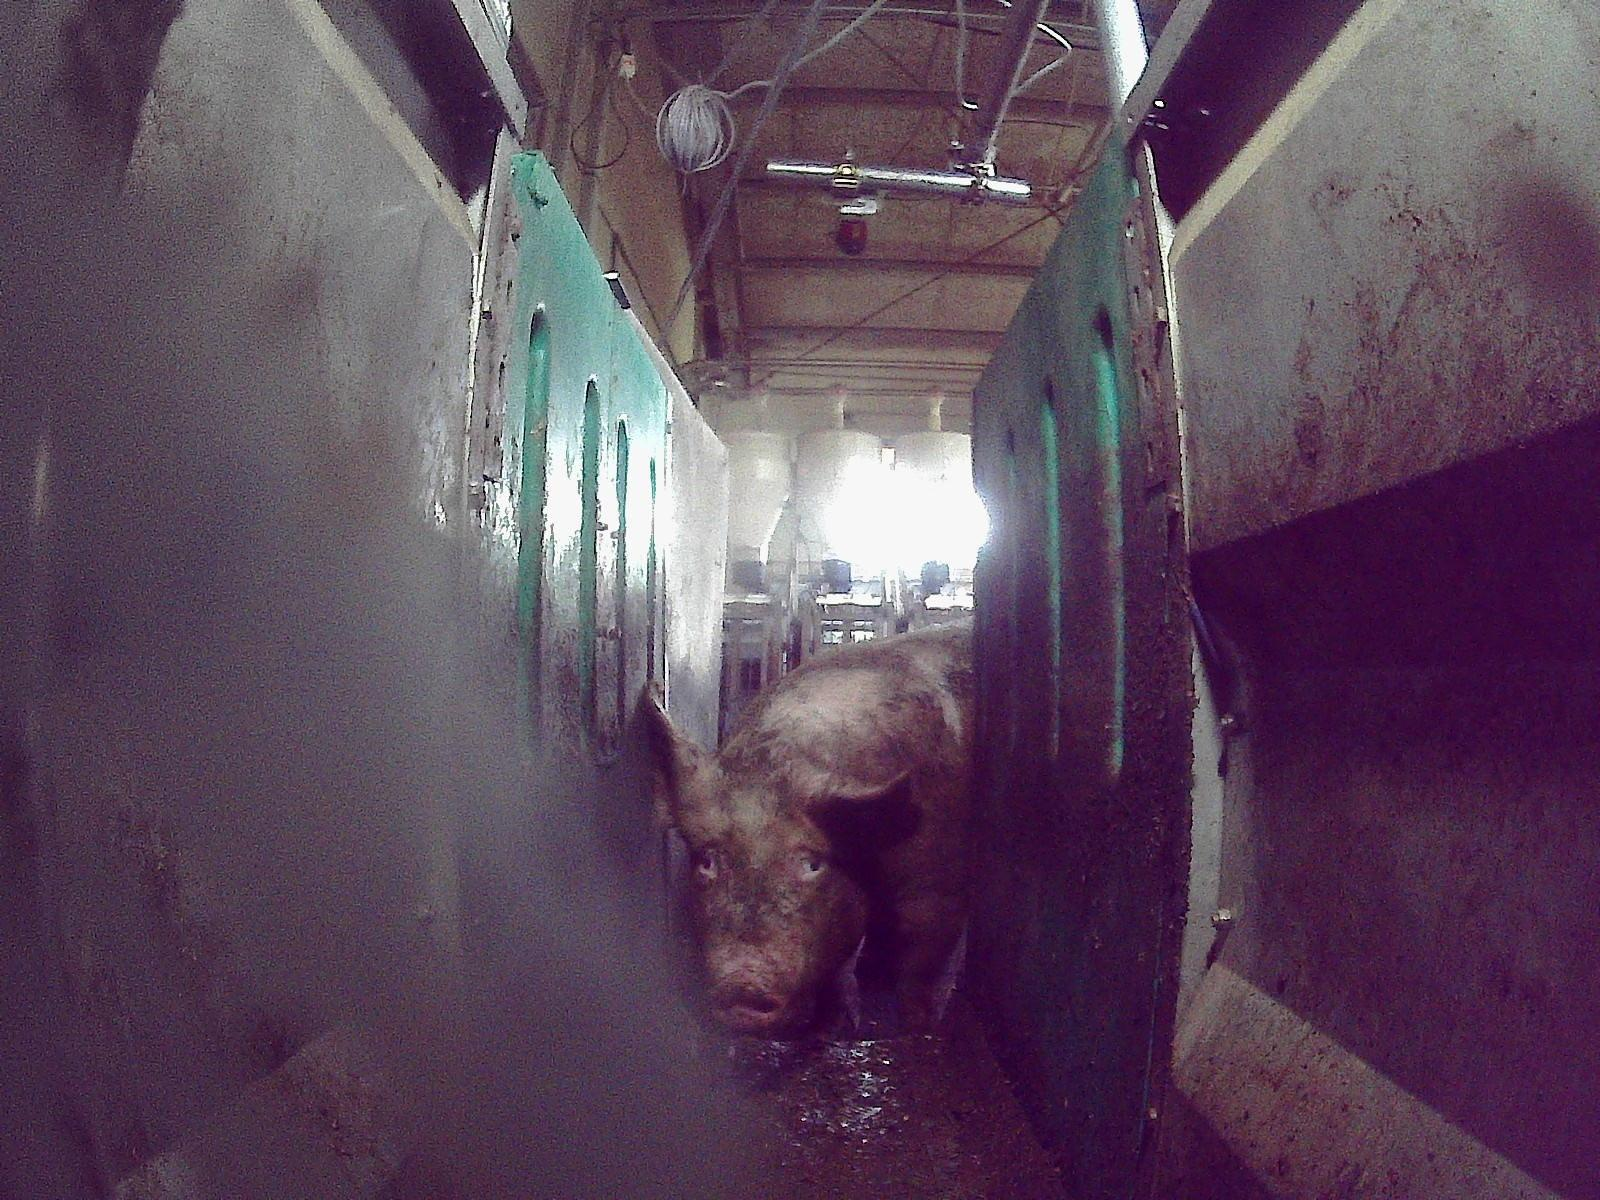Face: (678, 774, 860, 1027)
